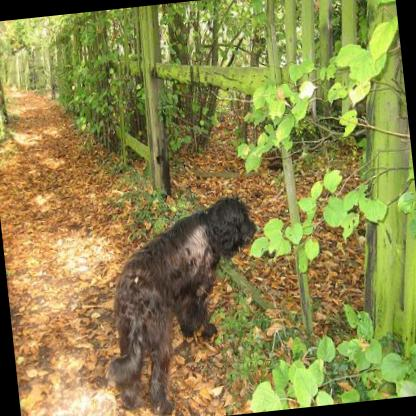briard: (86, 192, 275, 416)
